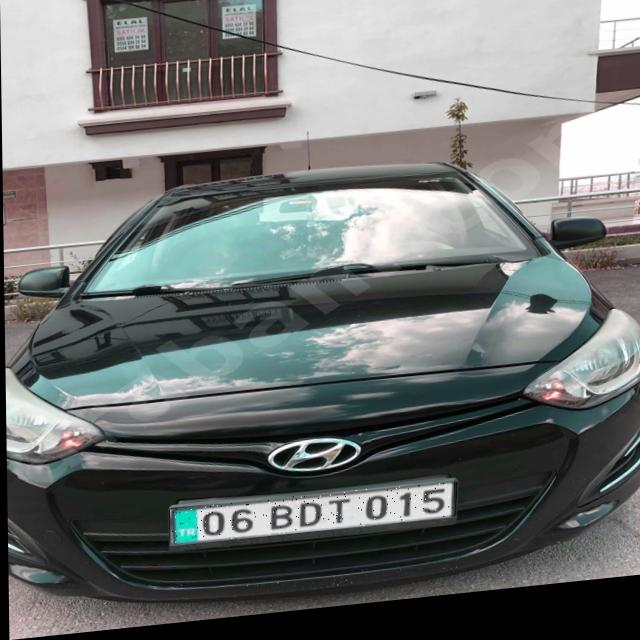license_plate: (168, 490, 453, 550)
